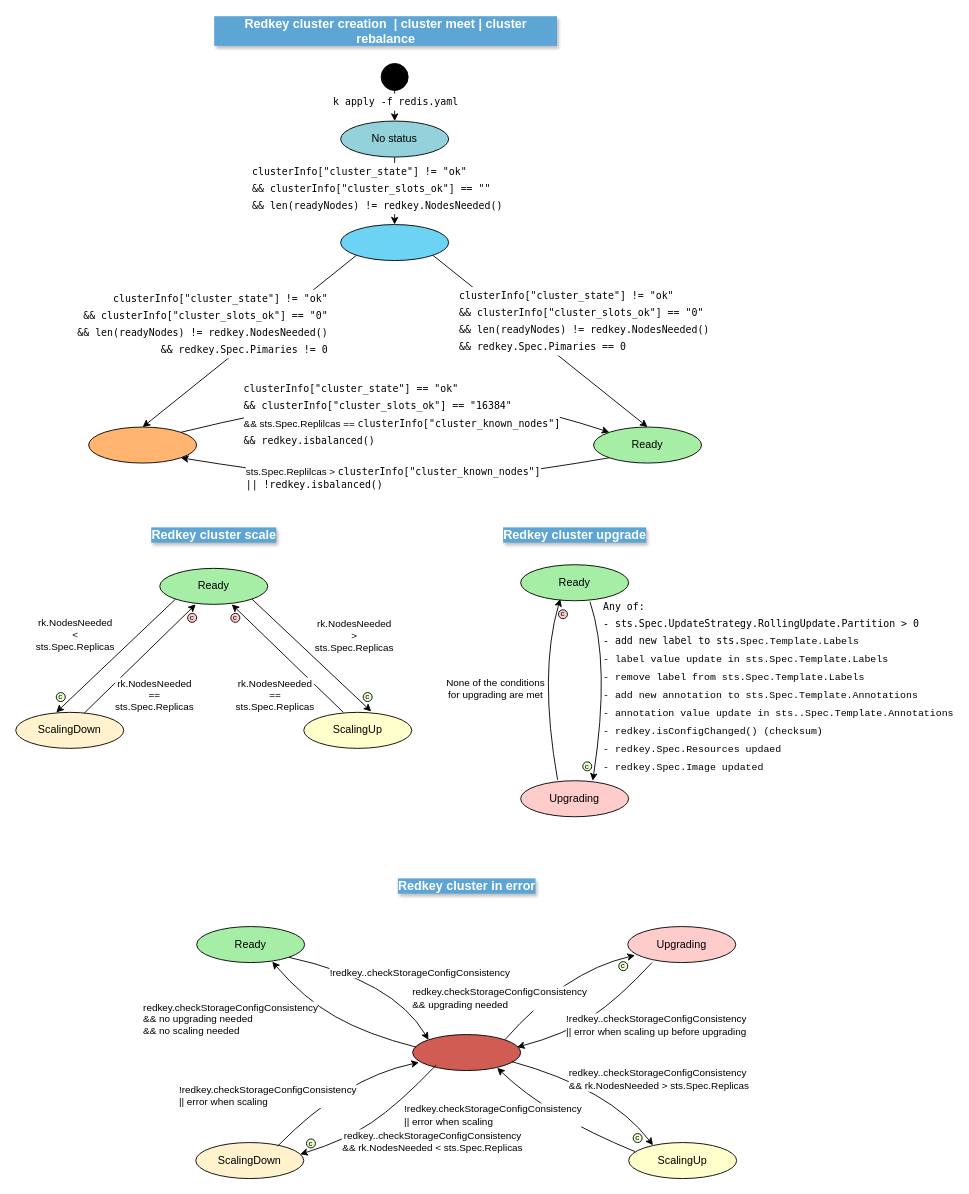
Some shapes in this 969 by 1194 pixel diagram are drawn without their labels. The centre of each missing label's shape, as x and y in pixels:
Configuring: [142,444]
Error: [466,1052]
Initializing: [394,242]
